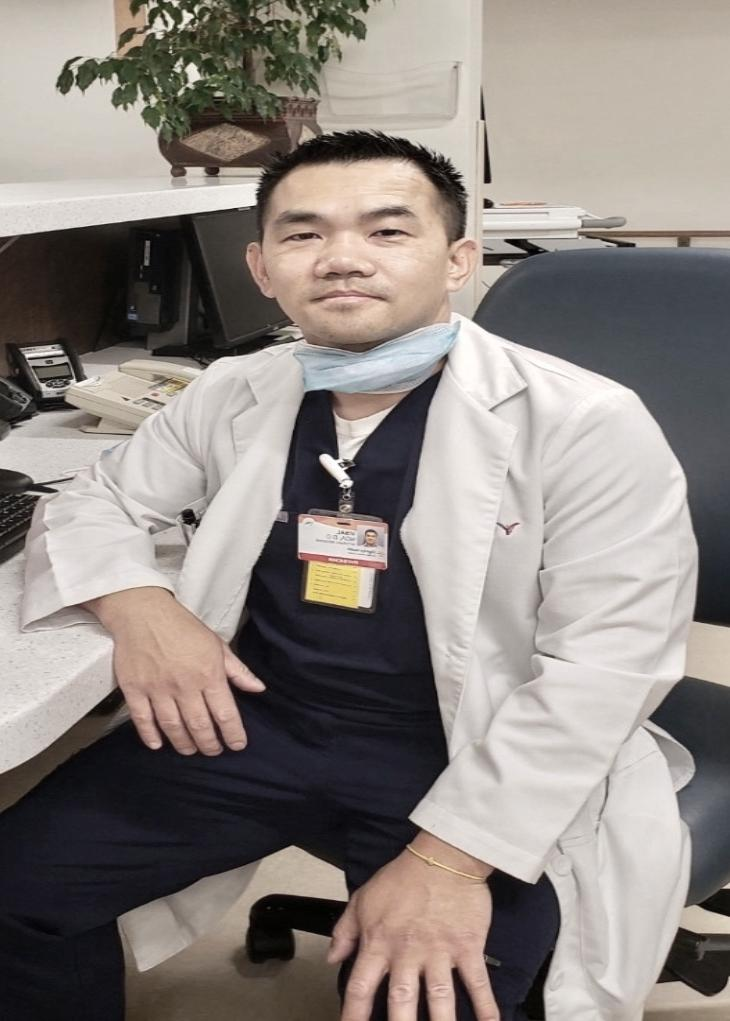mask_weared_incorrect: (249, 130, 478, 366)
